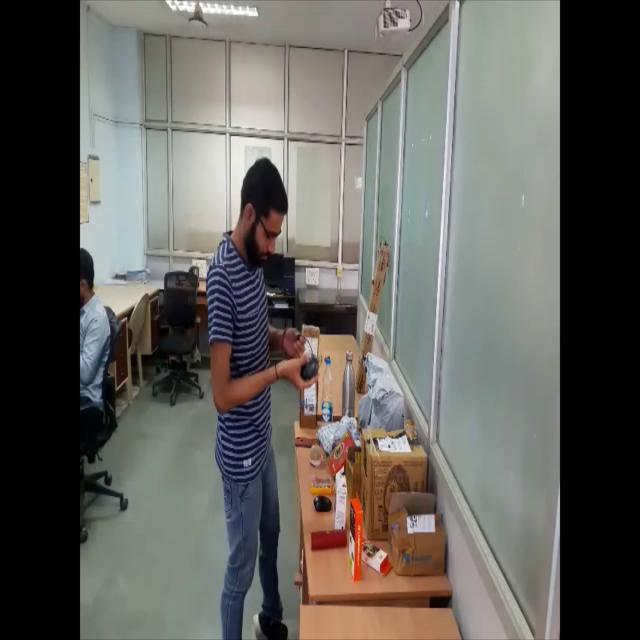normal: (189, 154, 323, 640)
